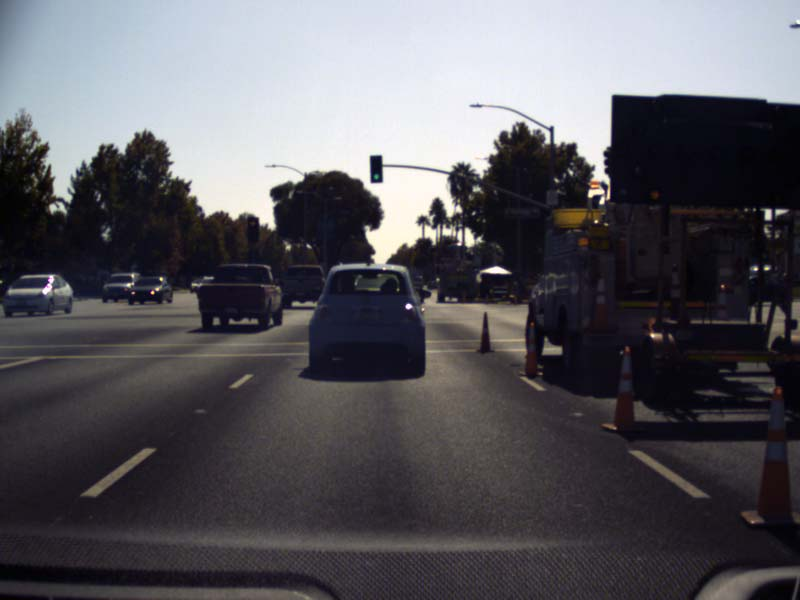Green: (370, 156, 382, 181)
Red: (248, 218, 257, 241)
